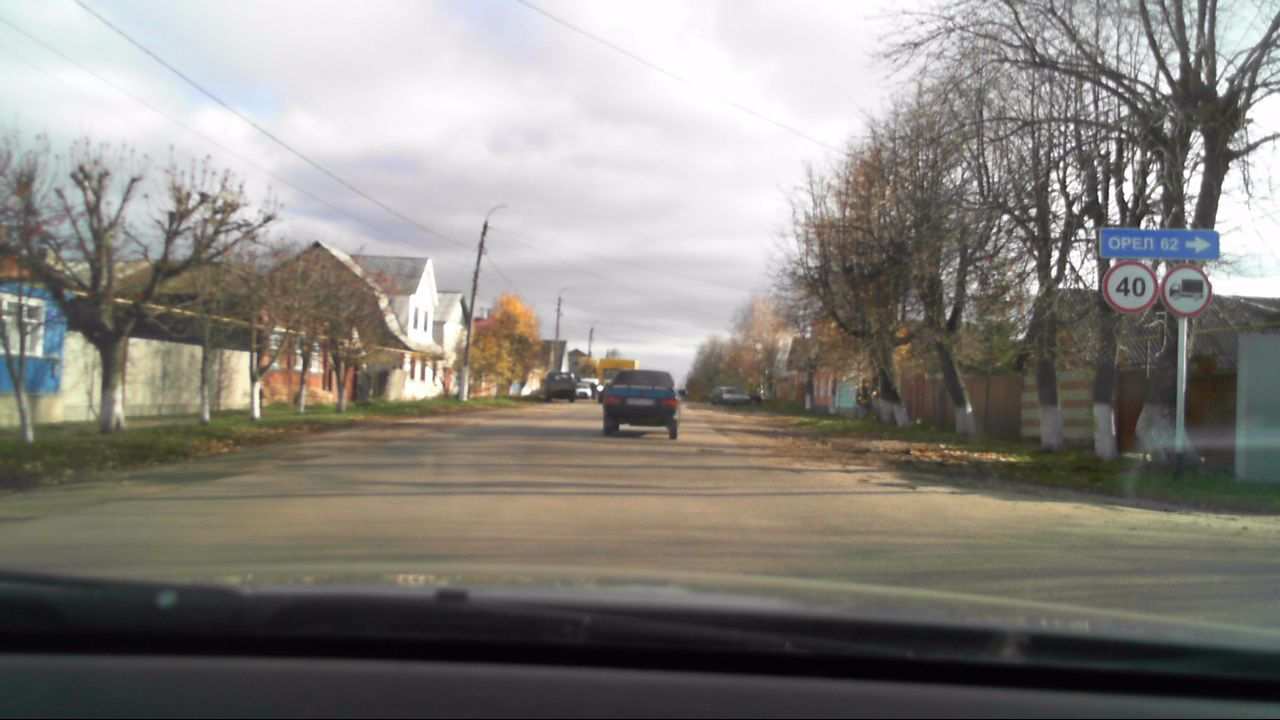speed_warning_40: (1105, 265, 1159, 308)
